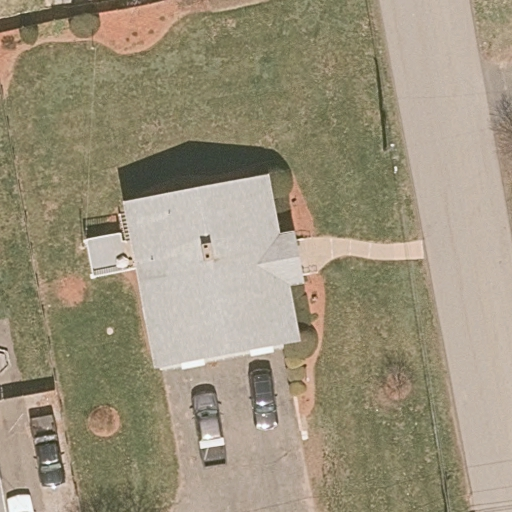DT: (383, 139, 398, 177)
